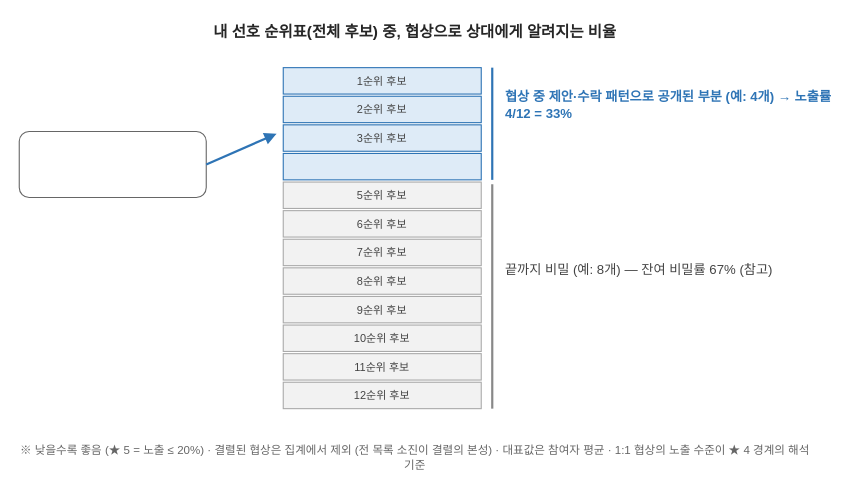
The diagram is 853 pixels wide and 497 high, and some of its shapes have lost their labels. The shapes that lost their labels are listed below. From the top down, each one's centre as x and y in pixels, then its label:
At [112,163]: "나를 가장 많이 아는 관찰자".
At [381,166]: "4순위 후보".
